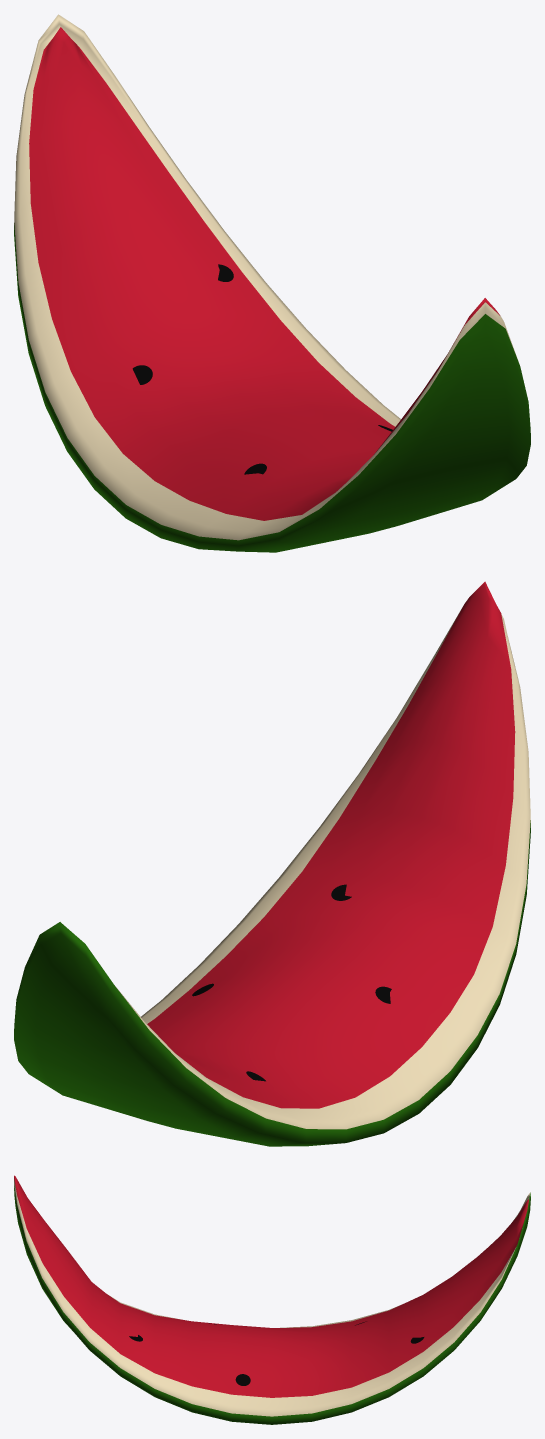
Rendered from Watermelon.fbx.
3 views of the same model, one above another, from view 1: azimuth 30°, elevation 25°; view 2: azimuth 150°, elevation 25°; view 3: azimuth 270°, elevation 25° (orthographic). The views are drawn at different scales.
Visible parts, largest first — view 1: Circle.002; view 2: Circle.002; view 3: Circle.002.
Part boxes in pixels (x1,y1,x2,y2): Circle.002: [14, 14, 530, 552]; Circle.002: [14, 581, 530, 1146]; Circle.002: [14, 1175, 530, 1424].
Size of the model in its own units: 14.21 by 16.59 by 35.77.
